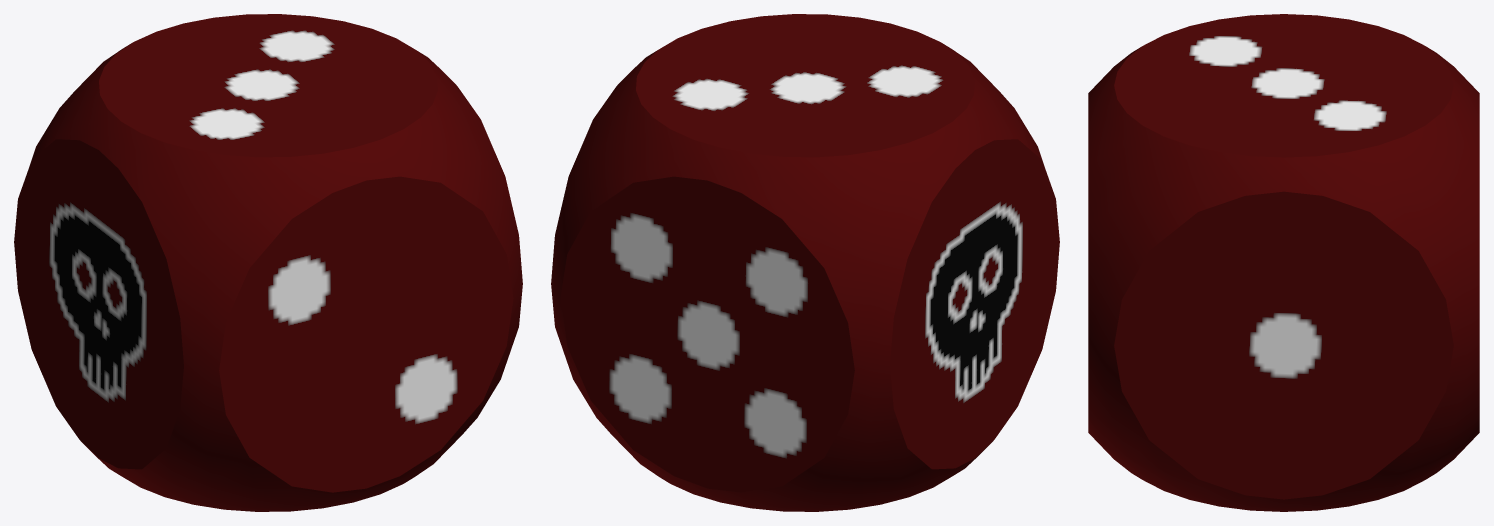
Rendered from Dice.fbx.
3 renders of one model, left to right at view 1: azimuth 30°, elevation 25°; view 2: azimuth 150°, elevation 25°; view 3: azimuth 270°, elevation 25°, orthographic.
Parts seen in each view (by area): view 1: Dice; view 2: Dice; view 3: Dice.
Boxes of the visible parts, x1,y1,x2,y2 form: Dice: (14,14,522,511); Dice: (551,14,1059,511); Dice: (1088,14,1479,511).
Size of the model in its own units: 0.1503 by 0.1503 by 0.1503.
